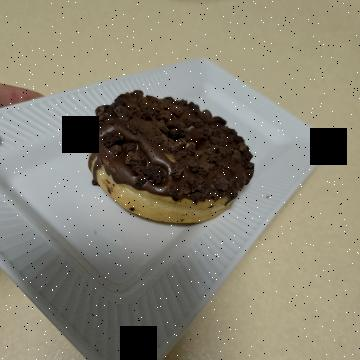doughnut: (81, 95, 241, 291)
